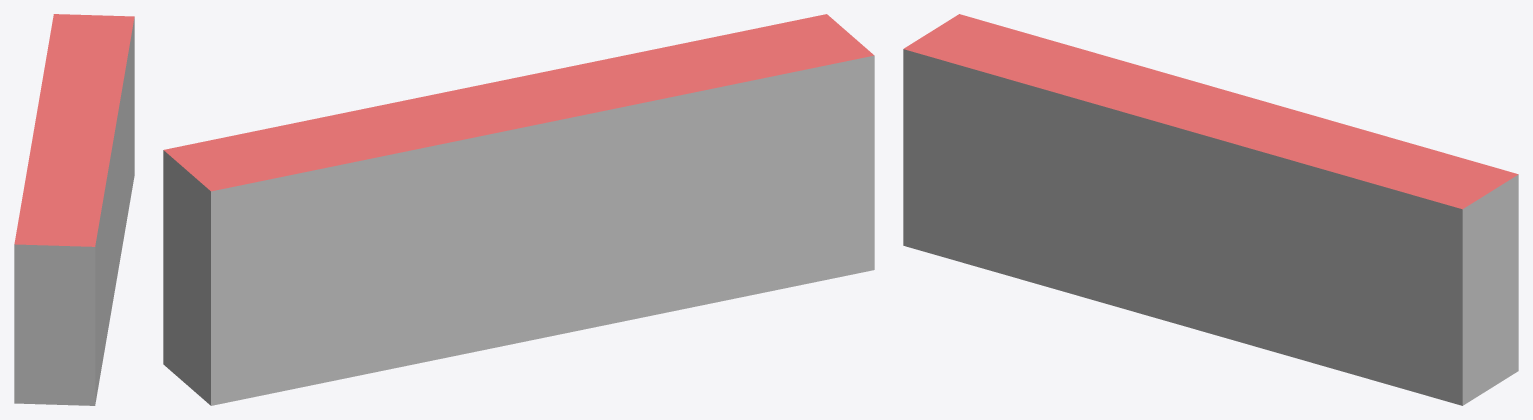
File: ID_3980f813-1dde-46ae-bbe0-1e1aacf8da8e.gltf
3 renders of one model, left to right at view 1: azimuth 30°, elevation 25°; view 2: azimuth 150°, elevation 25°; view 3: azimuth 270°, elevation 25°, orthographic. The views are drawn at different scales.
Parts seen in each view (by area): view 1: Z_UP; view 2: Z_UP; view 3: Z_UP.
Part boxes in pixels (bbox=[...]): Z_UP: bbox=[14, 14, 134, 405]; Z_UP: bbox=[163, 14, 874, 405]; Z_UP: bbox=[903, 14, 1518, 405].
Size of the model in its own units: 27.69 by 13 by 36.89.
